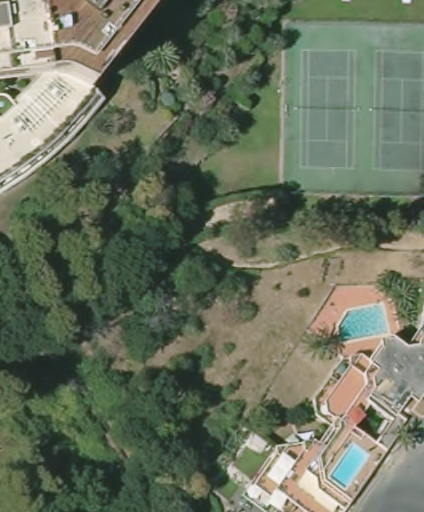pool: (336, 297, 397, 345), (326, 440, 370, 492)
